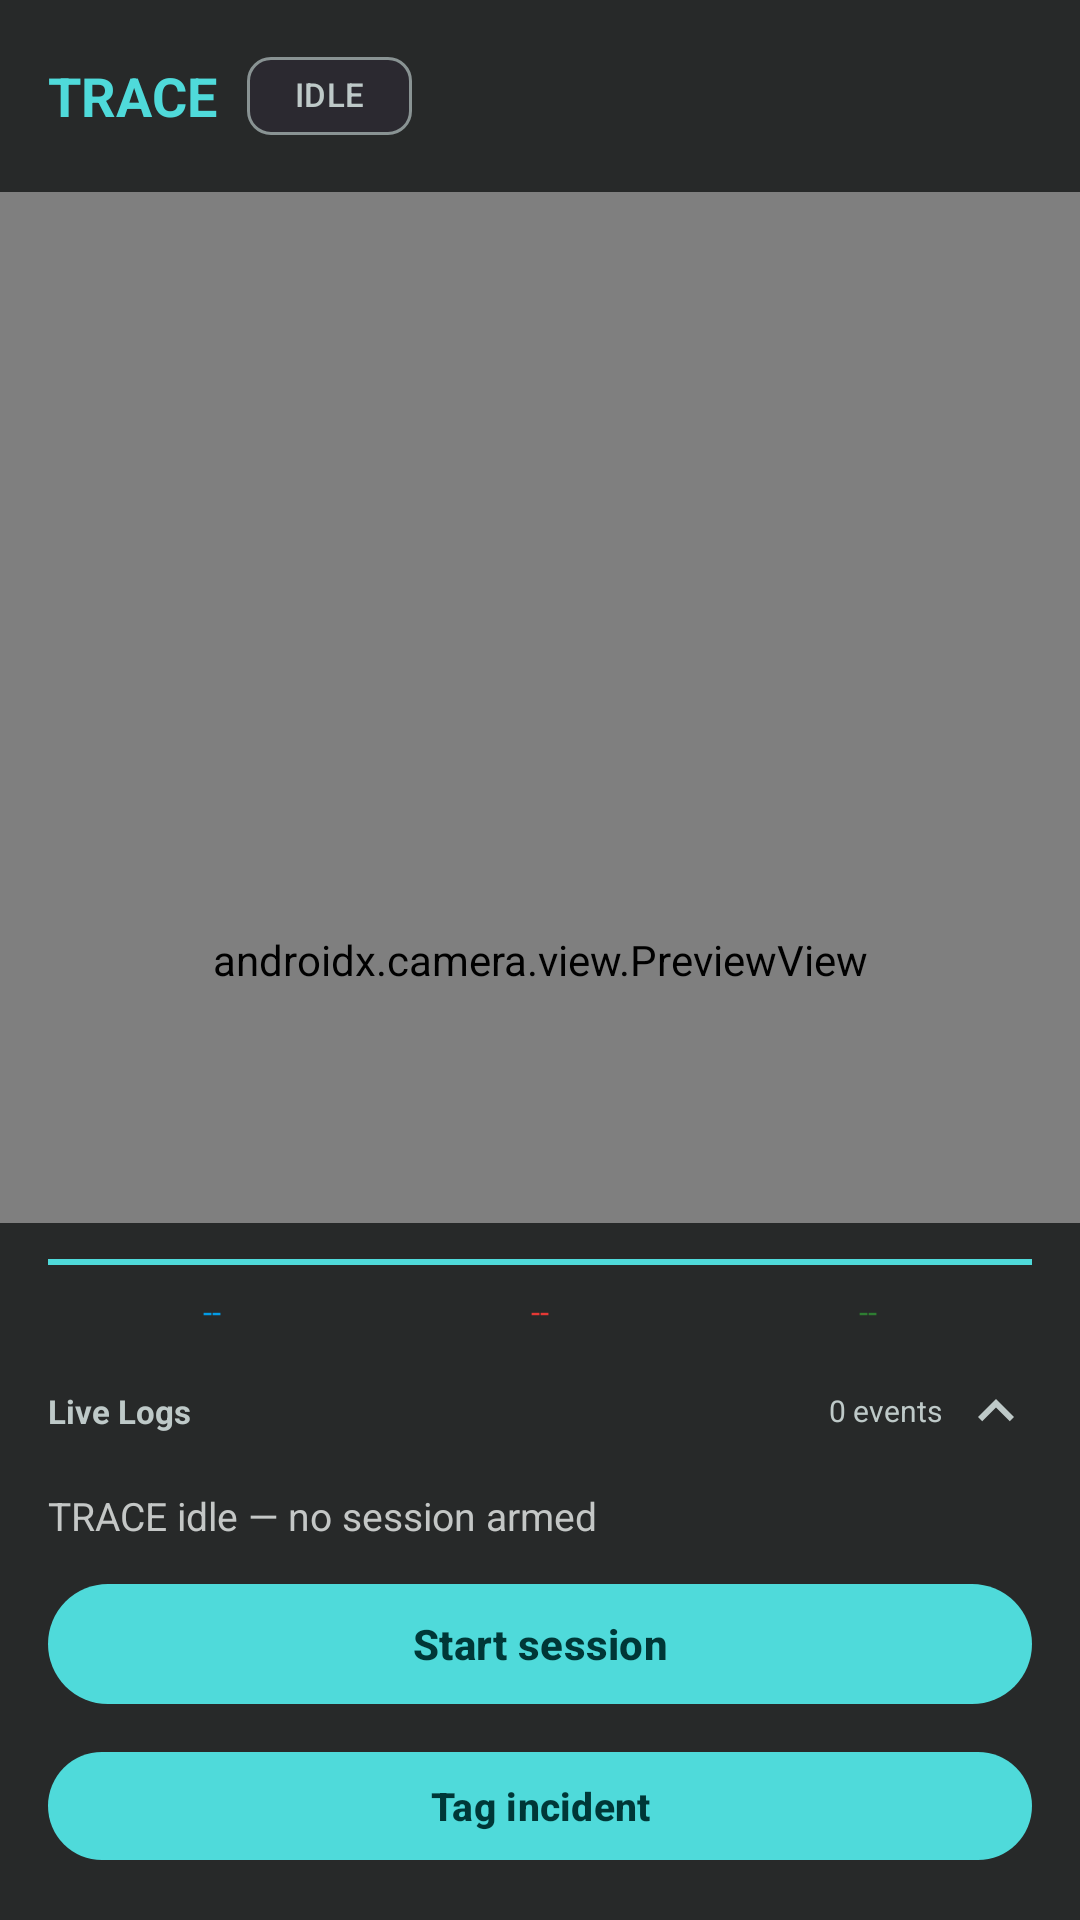

Icon click points for this 1080w x 1920h phone screenshot, format (x,y):
Toggle logs: (996,1410)
